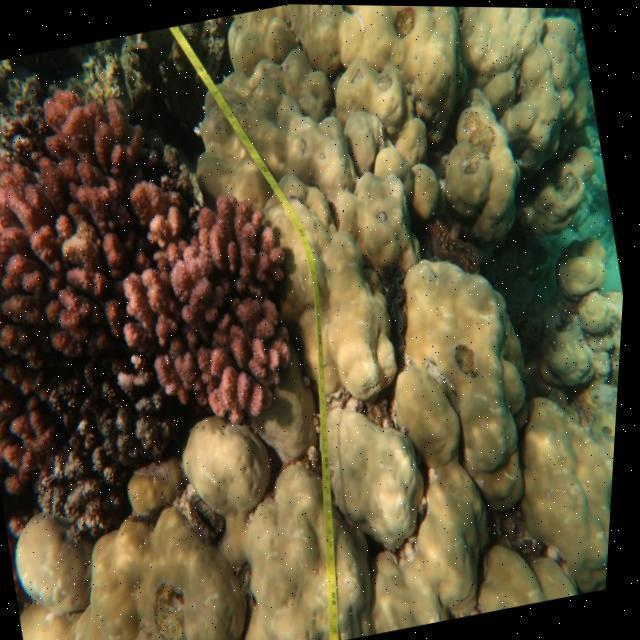Healthy Coral: (0, 66, 216, 373), (120, 175, 326, 441), (0, 363, 75, 524)
